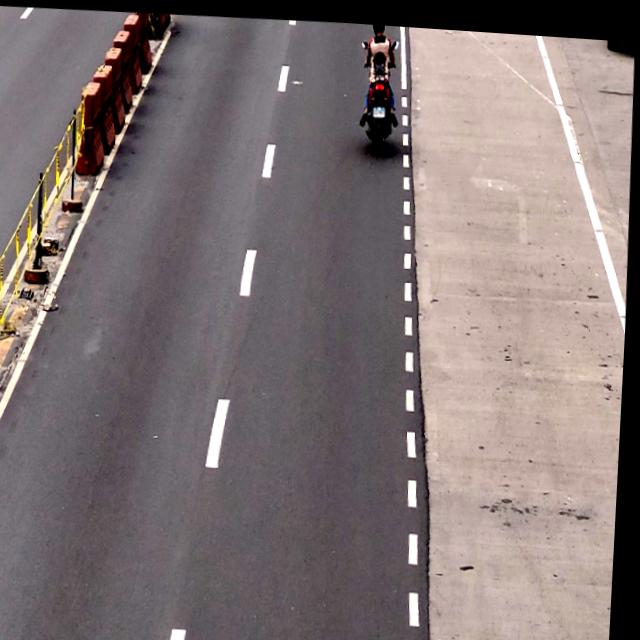License-Plate: (373, 99, 387, 113)
Motorcycle: (356, 19, 402, 152)
